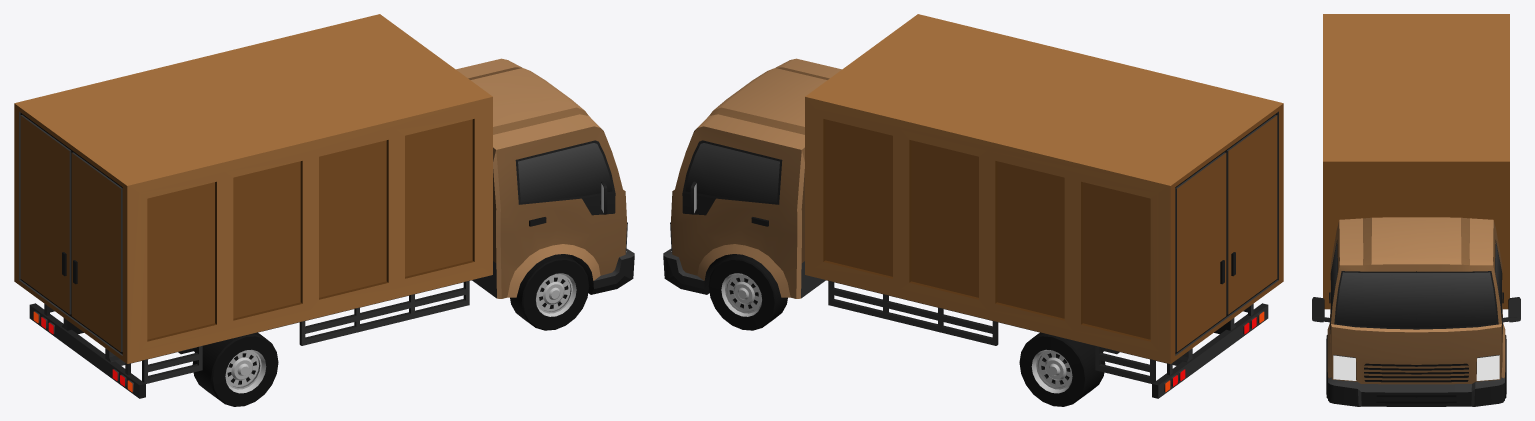
The model's file is Truck_023.glb.
3 renders of one model, left to right at view 1: azimuth 30°, elevation 25°; view 2: azimuth 150°, elevation 25°; view 3: azimuth 270°, elevation 25°, orthographic. The views are drawn at different scales.
Parts seen in each view (by area): view 1: Truck_023, wheel_3_Truck_023_Wheel_2R, wheel_1_Truck_023_Wheel_1R; view 2: Truck_023, wheel_2_Truck_023_Wheel_2L, wheel_0_Truck_023_Wheel_1L; view 3: Truck_023.
Part boxes in pixels (left/top/right/bottom): Truck_023: left=14, top=14, right=634, bottom=398; wheel_3_Truck_023_Wheel_2R: left=192, top=332, right=278, bottom=406; wheel_1_Truck_023_Wheel_1R: left=510, top=254, right=589, bottom=330; Truck_023: left=663, top=14, right=1283, bottom=398; wheel_2_Truck_023_Wheel_2L: left=1019, top=332, right=1105, bottom=406; wheel_0_Truck_023_Wheel_1L: left=708, top=254, right=787, bottom=330; Truck_023: left=1312, top=14, right=1520, bottom=406.
Size of the model in its own units: 5.66 by 2.62 by 2.39.
3 materials, 3 textured.
